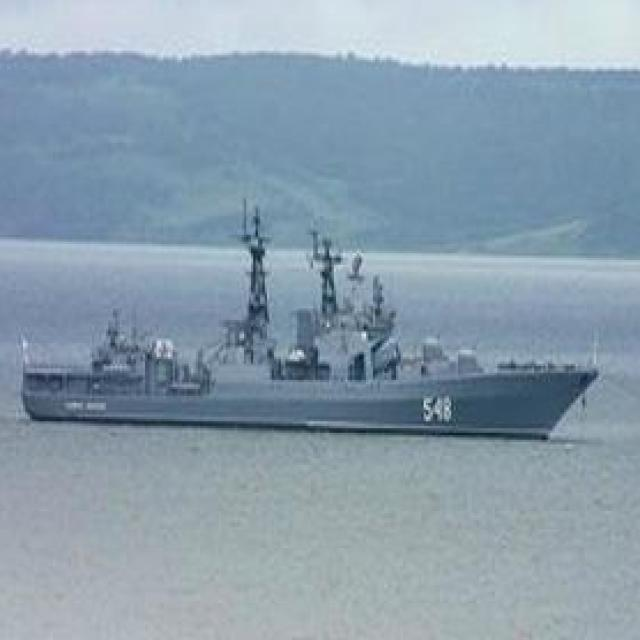navalvessels: (18, 197, 588, 450)
